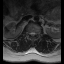CCS_normal: (32, 30, 33, 38)
LFS_stenosis: (35, 31, 37, 37)
LLS_normal: (33, 31, 35, 37)
RFS_normal: (28, 31, 30, 36)
RLS_normal: (30, 31, 32, 37)
